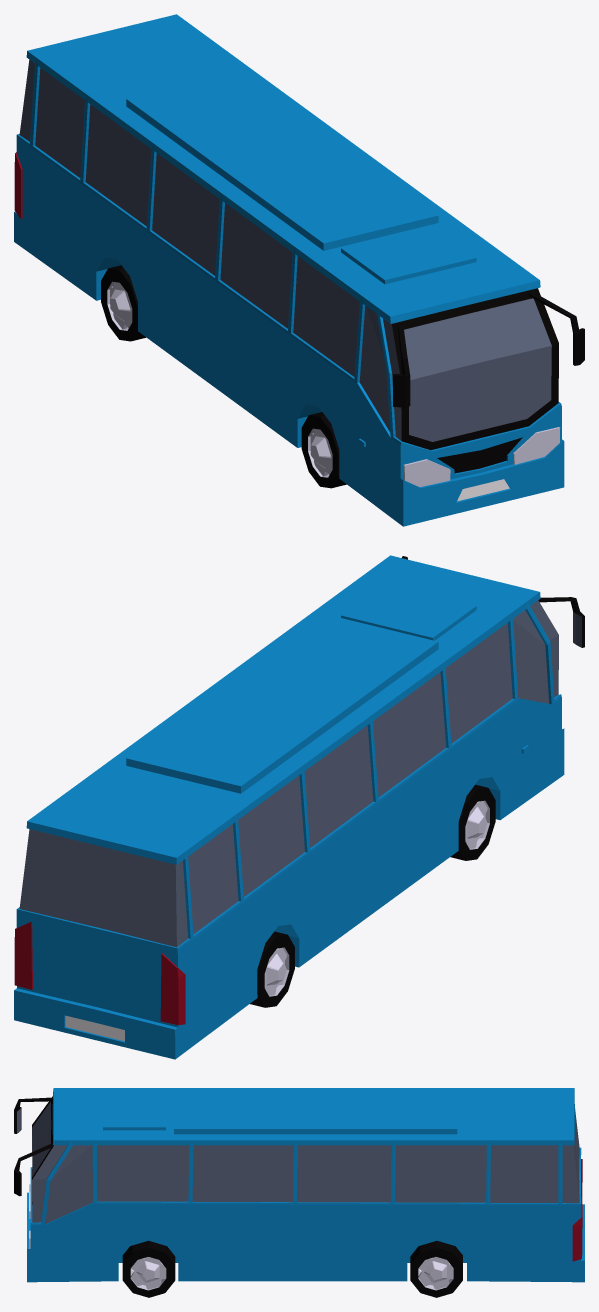
File: coach_rgsdev.glb
3 renders of one model, top to bottom at view 1: azimuth 30°, elevation 25°; view 2: azimuth 150°, elevation 25°; view 3: azimuth 270°, elevation 25°, orthographic. The views are drawn at different scales.
Parts seen in each view (by area): view 1: Bus, Bus wheel front right, Bus wheel rear right; view 2: Bus, Bus wheel rear right, Bus wheel front right; view 3: Bus, Bus wheel front left, Bus wheel rear left.
Boxes of the visible parts, x1=… form: Bus: x1=14, y1=14, x2=584, y2=526; Bus wheel front right: x1=301, y1=412, x2=346, y2=488; Bus wheel rear right: x1=101, y1=265, x2=145, y2=341; Bus: x1=14, y1=555, x2=584, y2=1059; Bus wheel rear right: x1=250, y1=931, x2=294, y2=1007; Bus wheel front right: x1=450, y1=784, x2=495, y2=860; Bus: x1=14, y1=1088, x2=584, y2=1282; Bus wheel front left: x1=122, y1=1240, x2=175, y2=1297; Bus wheel rear left: x1=410, y1=1241, x2=462, y2=1297.
Bounding box in the file's own units: 3.81 × 4.27 × 13.7.
